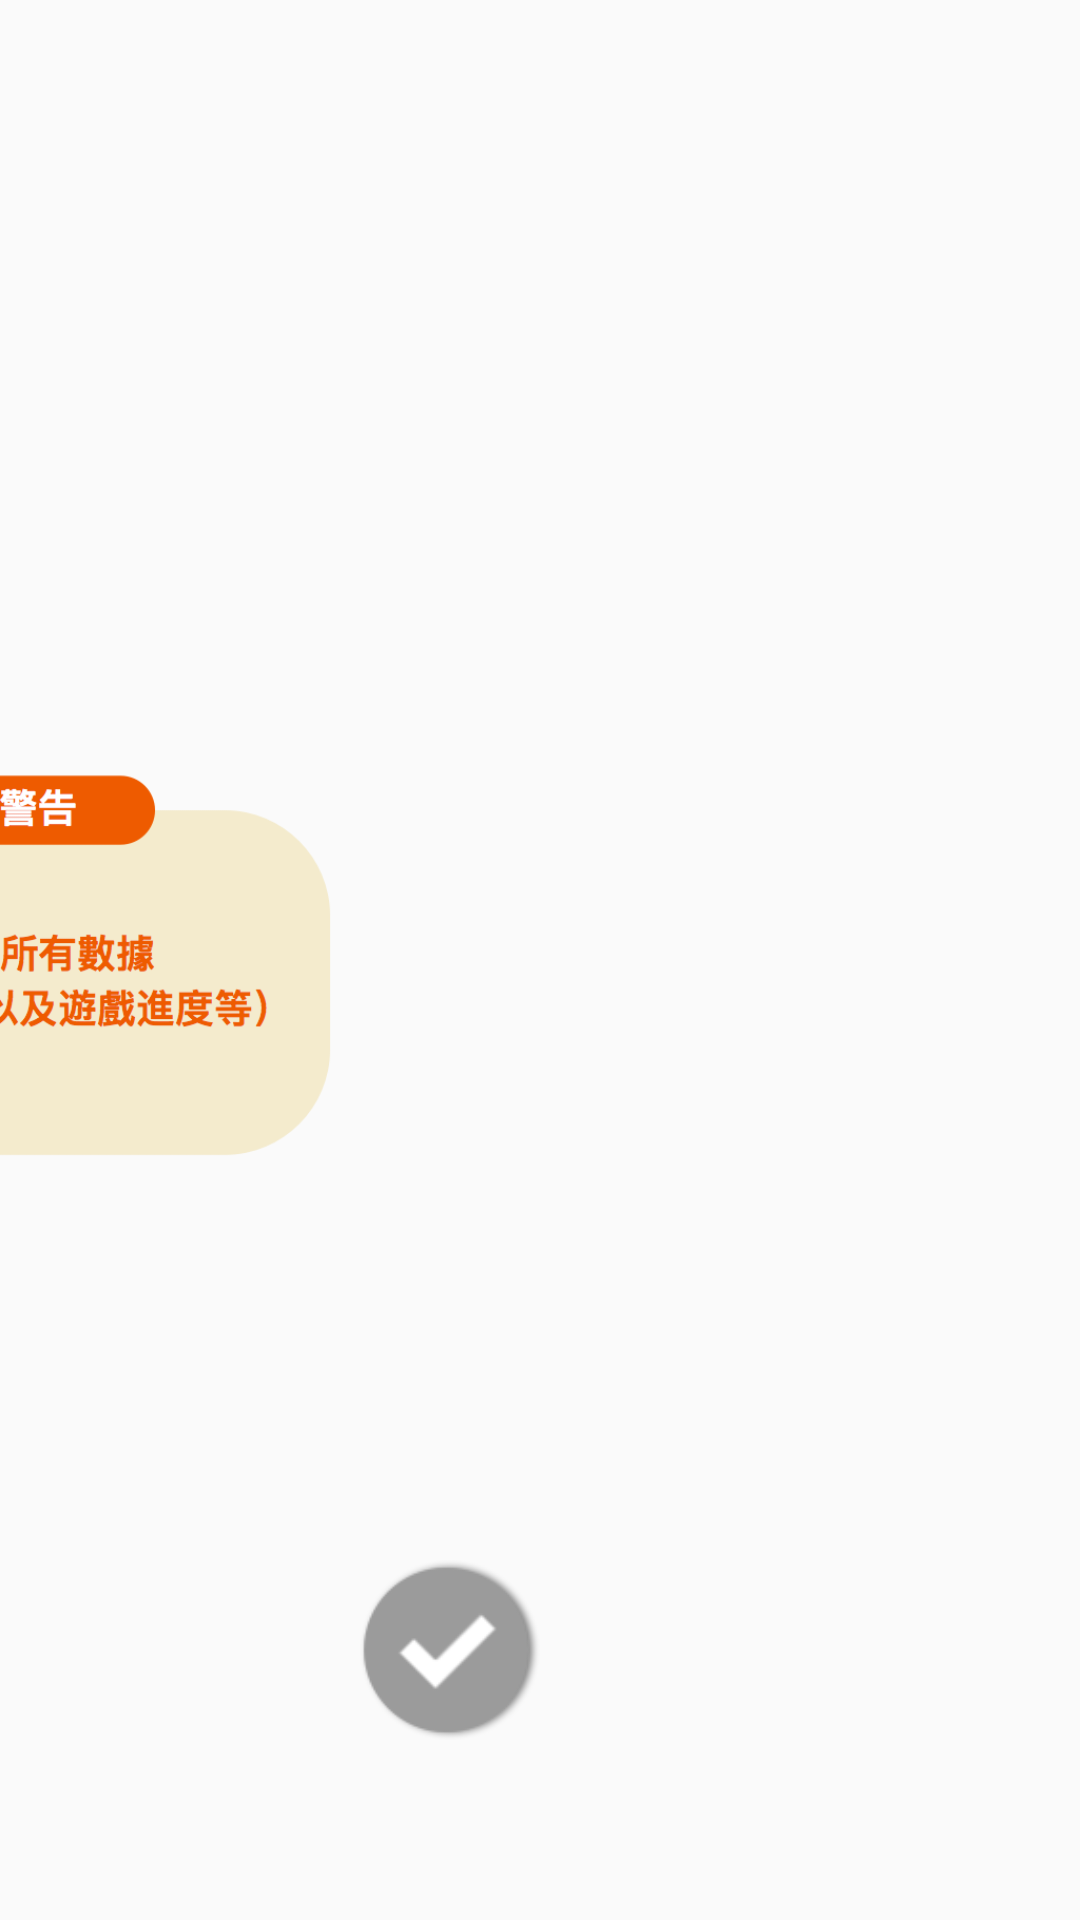

Icons on this 1080 × 1920 Android screen, each with the point to tap as (x,y):
resetdata yes: (449,1650)
